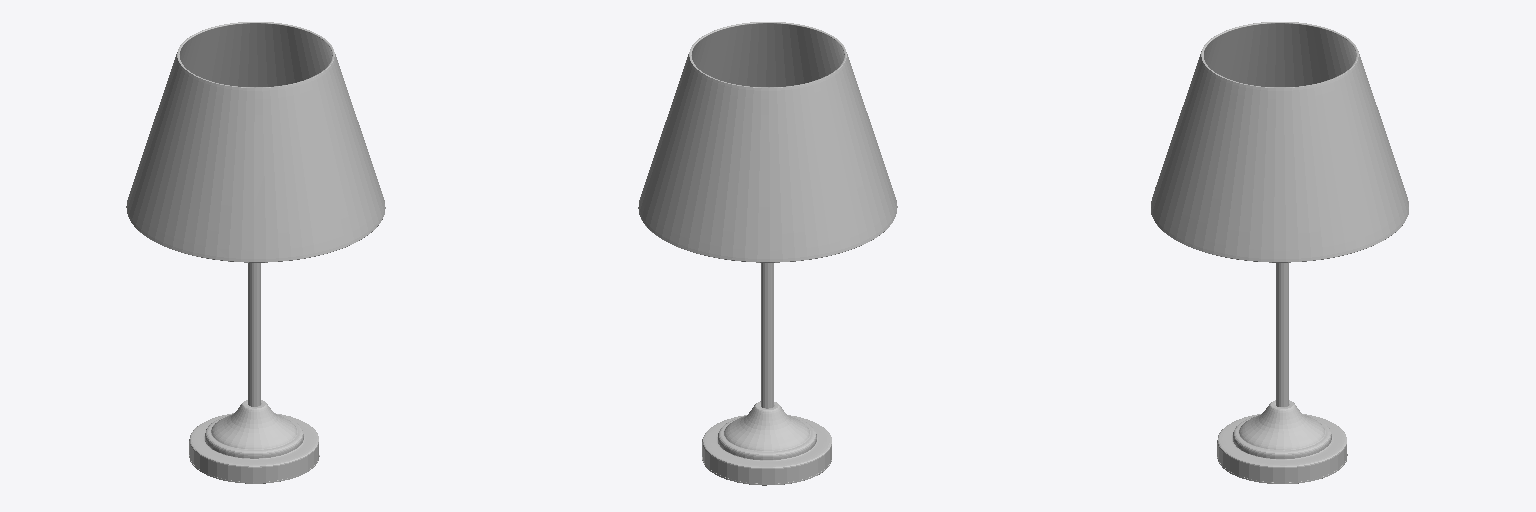
The model's file is CONTE LG1.obj.
3 views of the same model, side by side, from view 1: azimuth 30°, elevation 25°; view 2: azimuth 150°, elevation 25°; view 3: azimuth 270°, elevation 25° (orthographic).
Parts seen in each view (by area): view 1: Torsher_Zoloto_Cylinder.001, Metal_Plane.001, Torcher_Cylinder.001; view 2: Torsher_Zoloto_Cylinder.001, Metal_Plane.001, Torcher_Cylinder.001; view 3: Torsher_Zoloto_Cylinder.001, Metal_Plane.001, Torcher_Cylinder.001.
Boxes of the visible parts, <box> form: Torsher_Zoloto_Cylinder.001: <box>126,22,385,262</box>; Metal_Plane.001: <box>189,263,318,481</box>; Torcher_Cylinder.001: <box>180,23,331,86</box>; Torsher_Zoloto_Cylinder.001: <box>638,22,897,262</box>; Metal_Plane.001: <box>702,263,831,483</box>; Torcher_Cylinder.001: <box>692,23,843,86</box>; Torsher_Zoloto_Cylinder.001: <box>1151,22,1408,262</box>; Metal_Plane.001: <box>1217,263,1346,482</box>; Torcher_Cylinder.001: <box>1204,23,1355,86</box>.
Size of the model in its own units: 1.53 by 2.62 by 1.53.